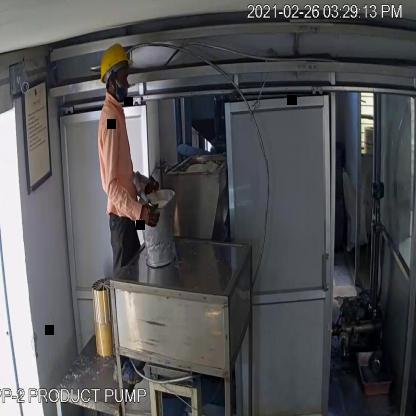helmet: (97, 41, 135, 82)
